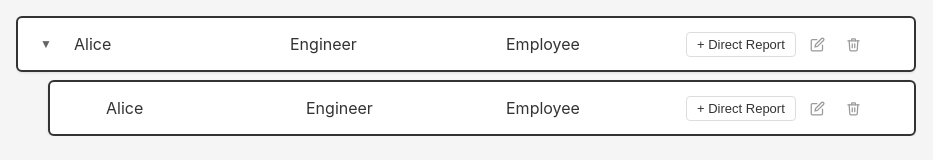
ListView › Expand/Collapse › shows collapsed arrow (▶) when node is collapsed
The image size is (933, 160).
Note: Click to collapse
Step 1. Click the button with class "expand-btn" → (46, 44), box [34,32,58,56]
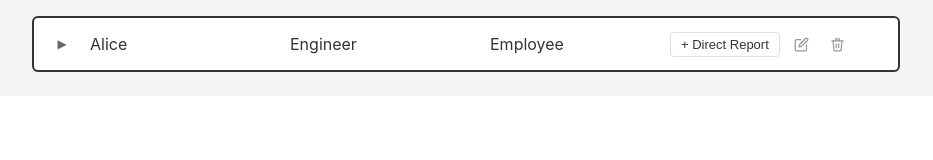
Expected: the button with class "expand-btn" reads "▶", [50,32,74,56]
